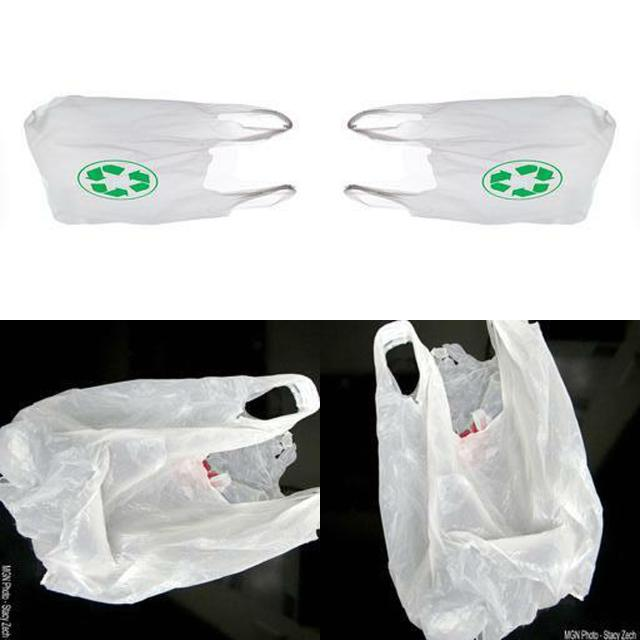Single-layer Plastic: (0, 374, 320, 604), (374, 321, 602, 640), (25, 96, 294, 224), (349, 96, 615, 224)
